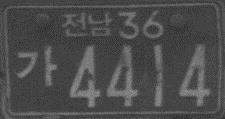1: (150, 43, 165, 110)
3: (117, 10, 139, 39)
4: (68, 44, 102, 109), (104, 44, 139, 107), (177, 42, 211, 106)
6: (142, 8, 164, 39)
가: (15, 44, 57, 86)
전남_O: (60, 11, 111, 39)
